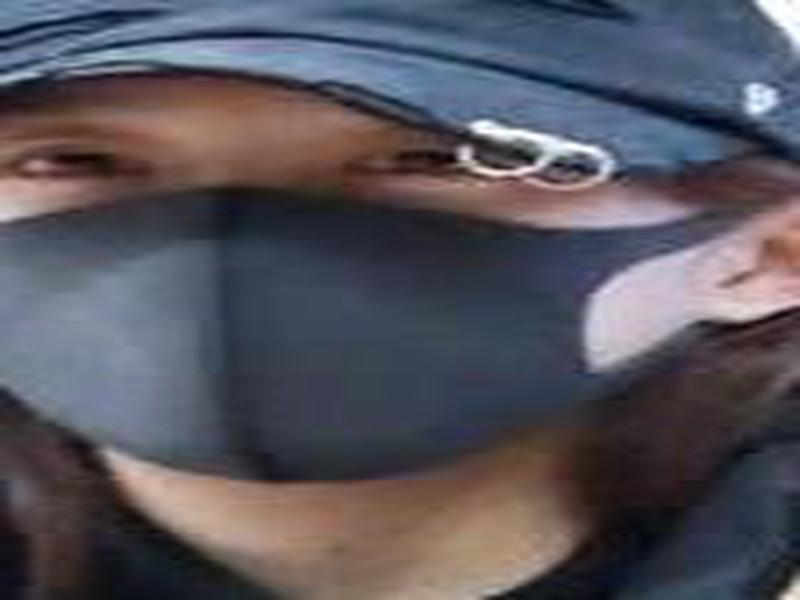with_mask: (1, 79, 796, 489)
